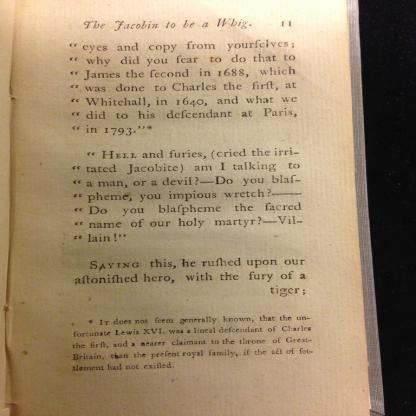book: (0, 0, 384, 416)
